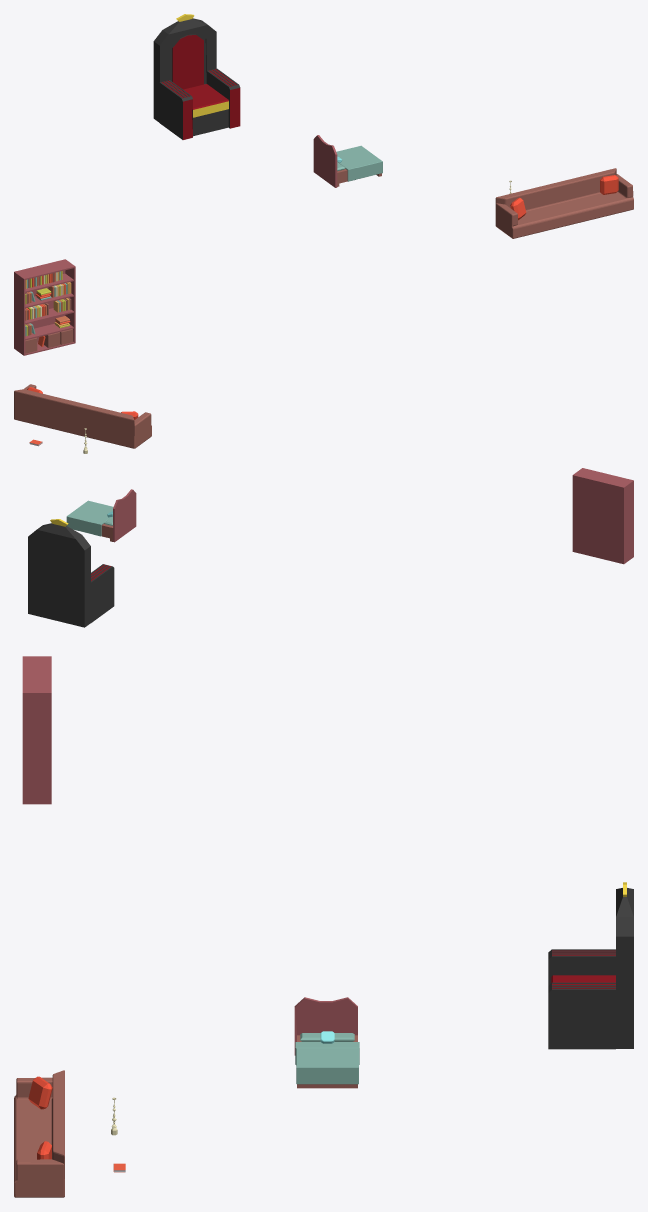
The picture shows the model from 3 angles, top to bottom: view 1: azimuth 30°, elevation 25°; view 2: azimuth 150°, elevation 25°; view 3: azimuth 270°, elevation 25°; orthographic projection. The views are drawn at different scales.
Visible parts, largest first — view 1: Throne, couch, Bookshelf, bed; view 2: Throne, Bookshelf, couch, bed; view 3: Throne, couch, bed, Bookshelf.
Boxes of the visible parts, <box> form: Throne: <box>153,14,240,139</box>; couch: <box>495,168,633,238</box>; Bookshelf: <box>14,259,75,355</box>; bed: <box>313,135,382,187</box>; Throne: <box>28,519,114,627</box>; Bookshelf: <box>572,468,633,564</box>; couch: <box>14,384,151,448</box>; bed: <box>66,489,136,542</box>; Throne: <box>548,882,633,1049</box>; couch: <box>14,1070,64,1197</box>; bed: <box>294,997,359,1088</box>; Bookshelf: <box>22,656,51,804</box>.
Bounding box in the file's own units: 3982 × 624 × 2424.
